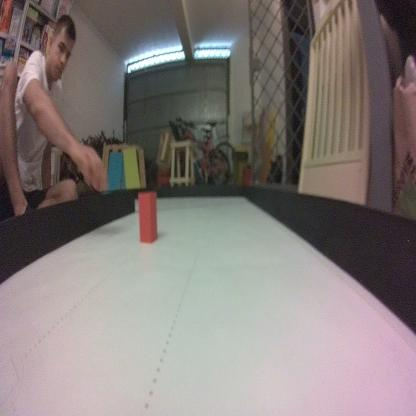red: (137, 190, 160, 245)
